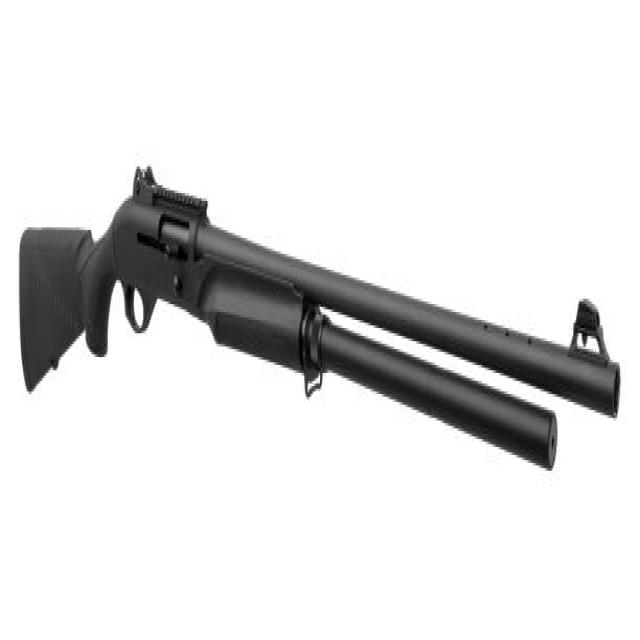rifle: (12, 148, 629, 508)
